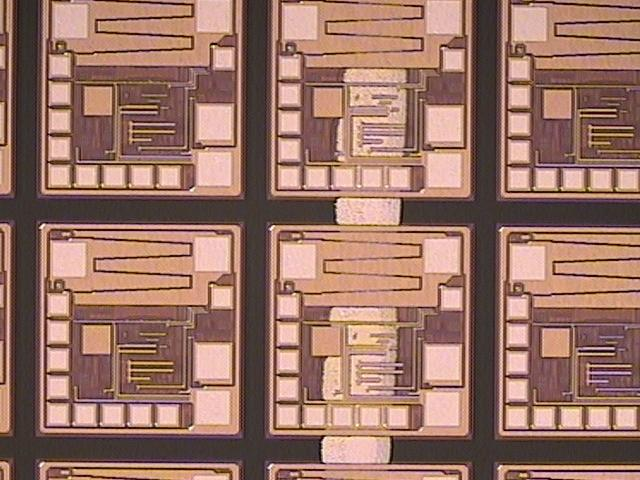BLOCK ETCH: (310, 1, 421, 480)
